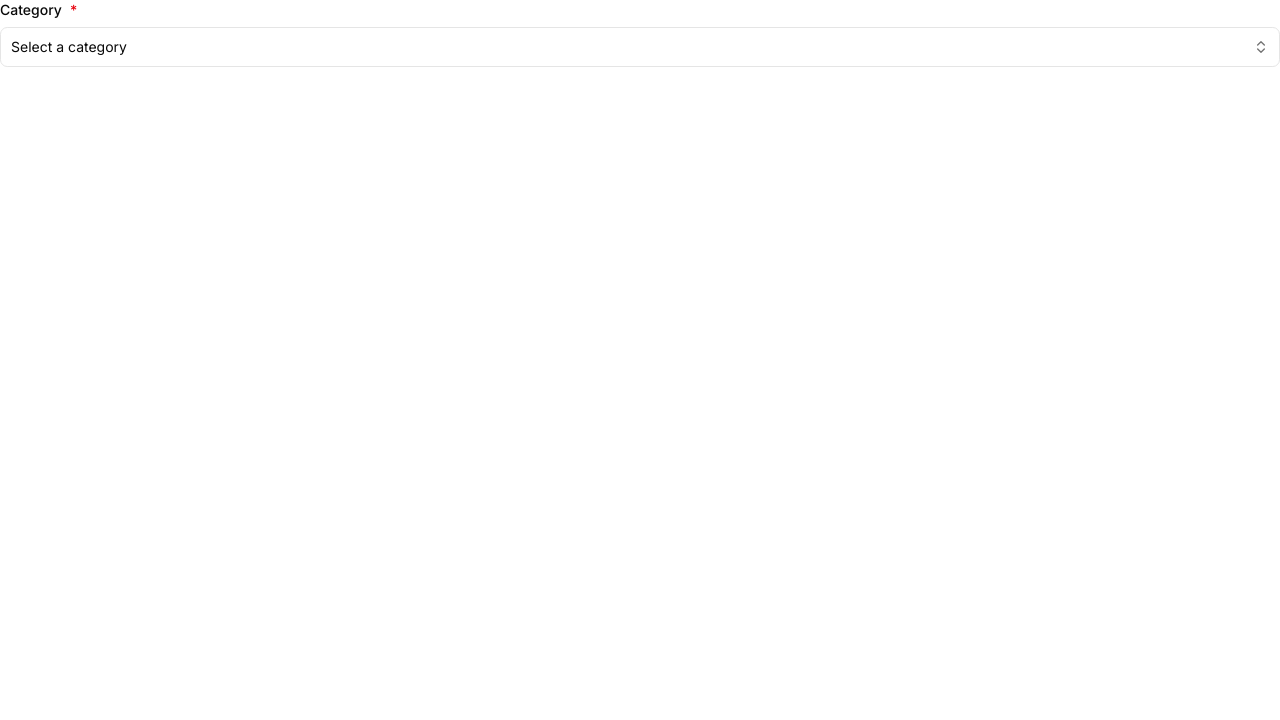
Scenario: active category selector › offers retry after a lookup failure without selecting anything automatically
Later steps or results of the test are not shown.
Click the dropdown labelled "category" at (69, 47), box [0,27,1279,67]
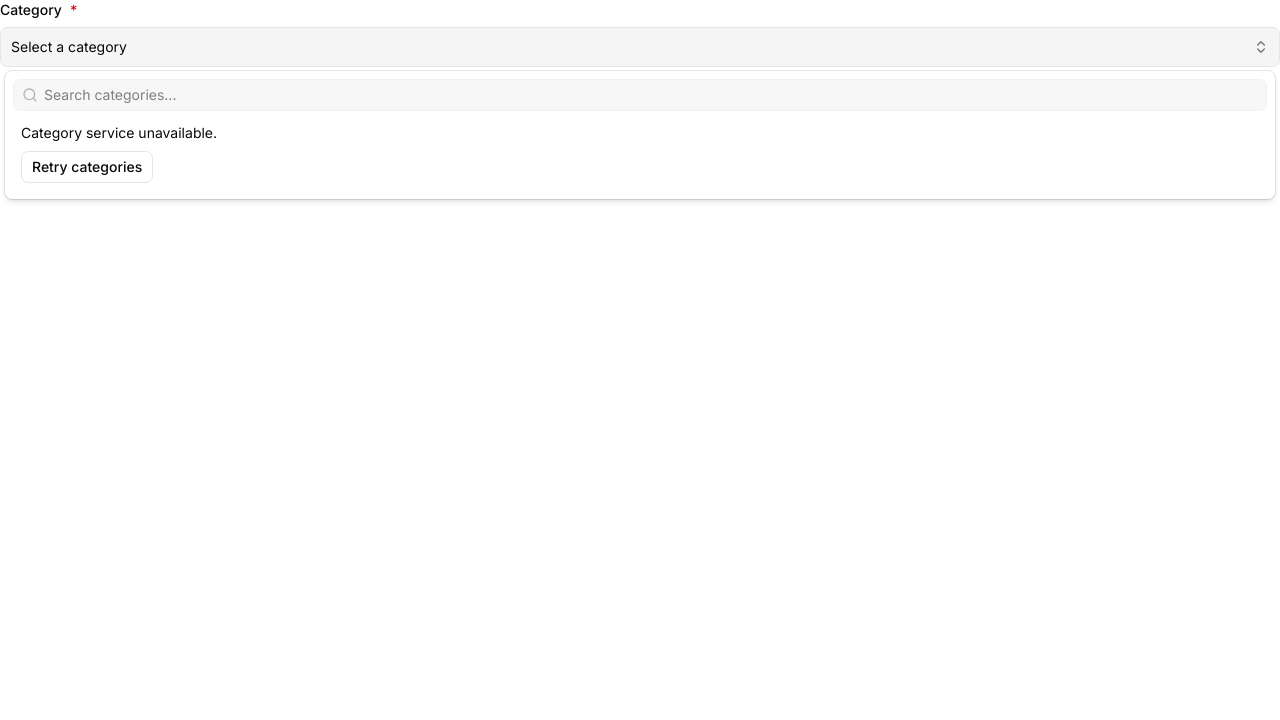
Expected: the text "Category service unavailable." is shown, [21,124,217,141]
Click the button "Retry categories" at (87, 167), box [21,151,153,183]
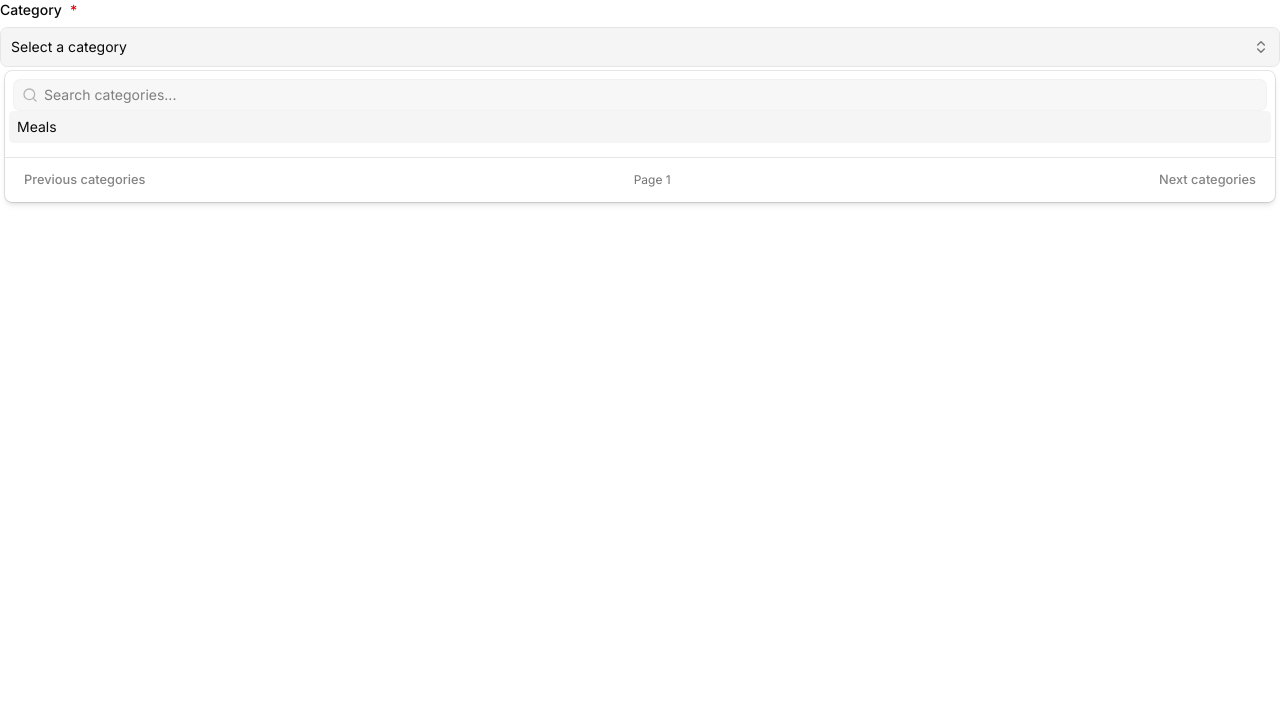
Expected: the option "Meals" is shown, [9,111,1271,143]
